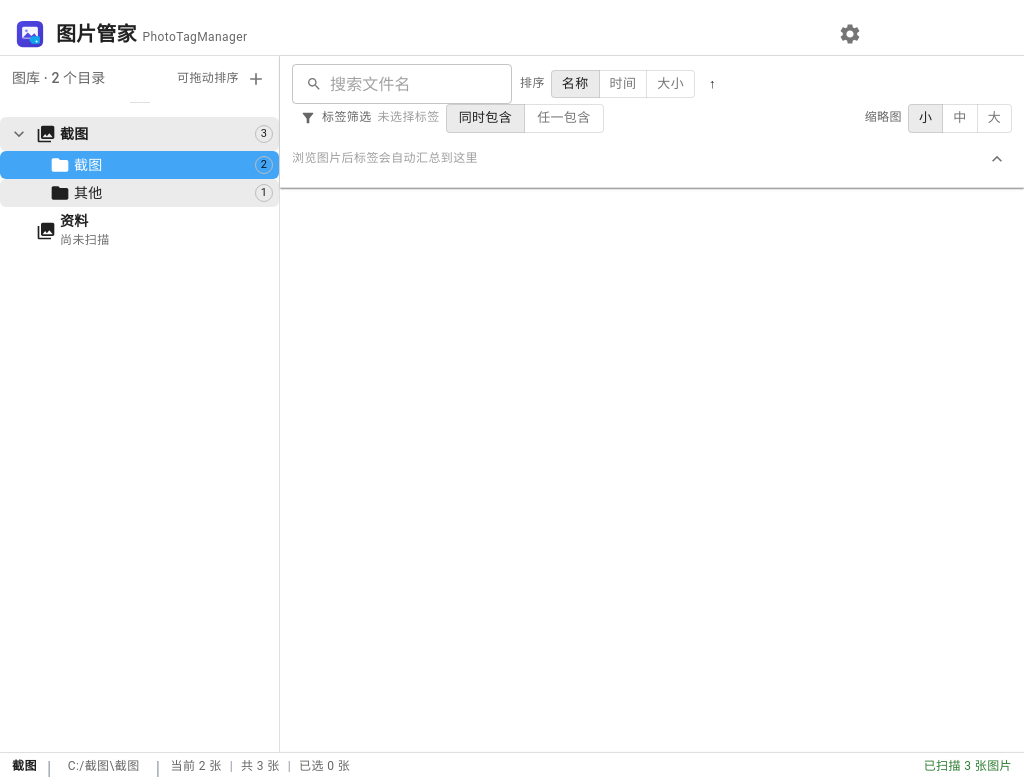
批次2 G7 状态栏 › 找图工具条可收起：收起后搜索框消失，再点回来，且偏好落盘
Expected: the field with placeholder "搜索文件名" is shown, [330, 64, 512, 104]
Click the button named "收起筛选工具条" at point(997, 159), box [982, 144, 1012, 174]
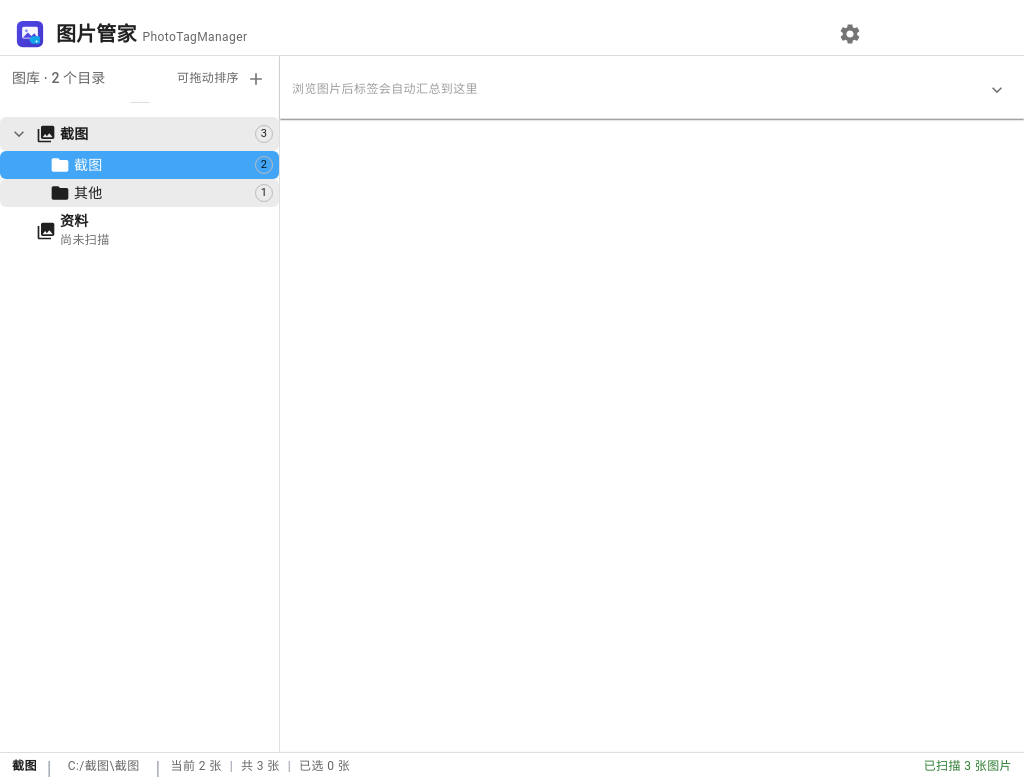
Expected: the element named "常用标签" is shown, [292, 70, 1012, 110]
Now the field with placeholder "搜索文件名" is gone
Click the button named "展开筛选工具条" at point(997, 90), box [982, 75, 1012, 105]
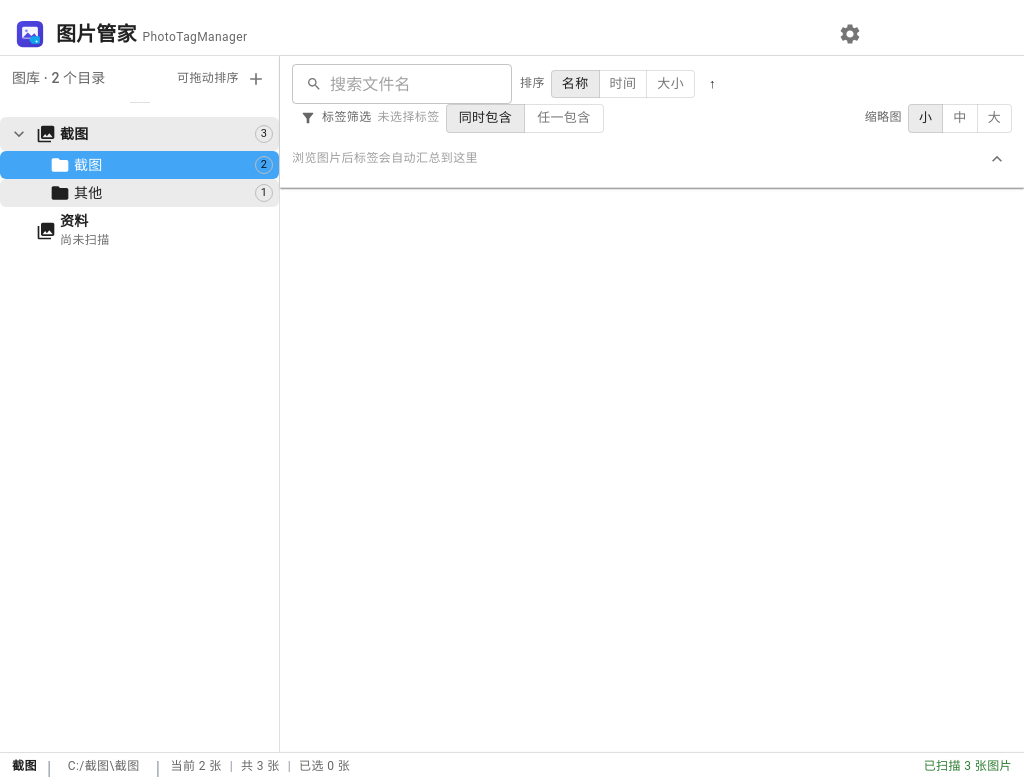
Now the field with placeholder "搜索文件名" is shown, box [330, 64, 512, 104]
